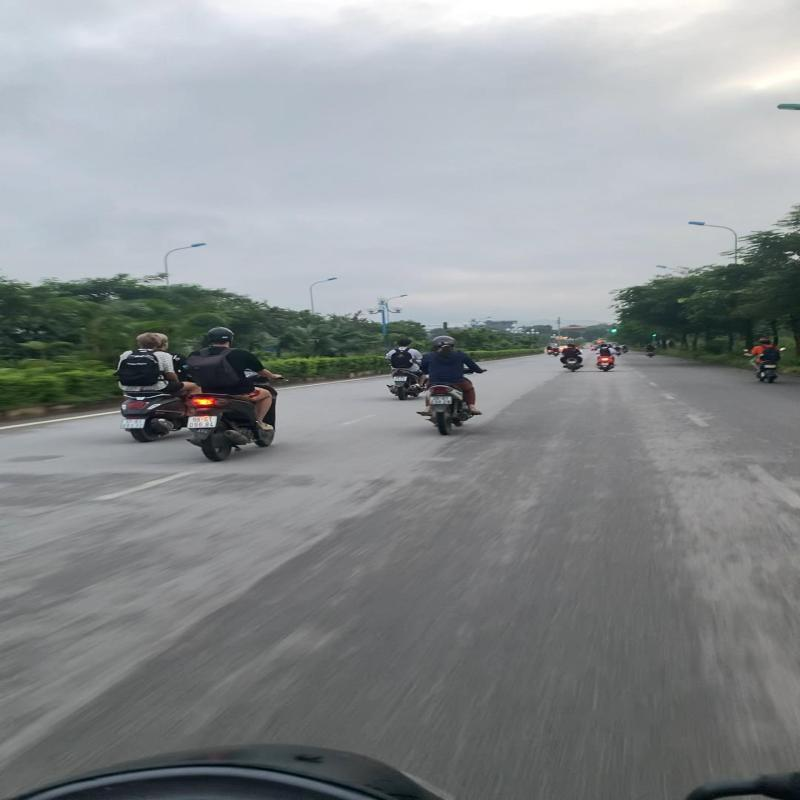helmet: (204, 326, 237, 344), (430, 334, 456, 348)
licenseplate: (185, 415, 219, 430), (119, 419, 148, 430), (428, 394, 454, 406)
motorcyclist: (181, 326, 290, 462), (112, 330, 202, 443), (416, 334, 490, 437)
nohelmet: (134, 332, 163, 349), (397, 337, 413, 347)
